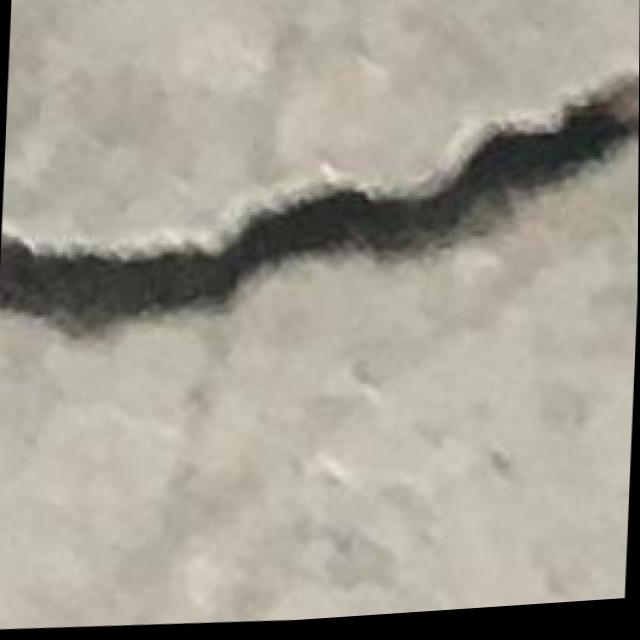Crack: (0, 48, 640, 609), (0, 60, 621, 371)
